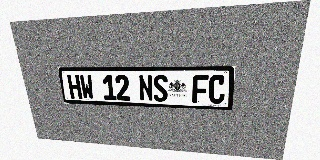1: (101, 75, 117, 100)
2: (115, 75, 130, 101)
C: (208, 75, 226, 104)
F: (192, 75, 209, 103)
H: (67, 75, 82, 99)
N: (138, 75, 153, 102)
S: (153, 75, 168, 102)
W: (79, 75, 95, 100)
